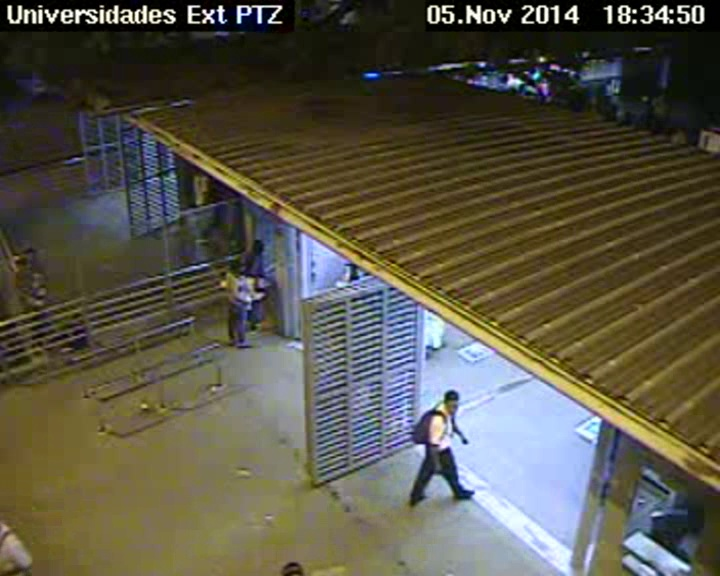person: (440, 388, 464, 413), (227, 257, 244, 278), (251, 236, 268, 255), (30, 271, 46, 286), (22, 247, 34, 262), (16, 257, 30, 269), (206, 201, 216, 210), (176, 218, 185, 227), (190, 205, 198, 214)
